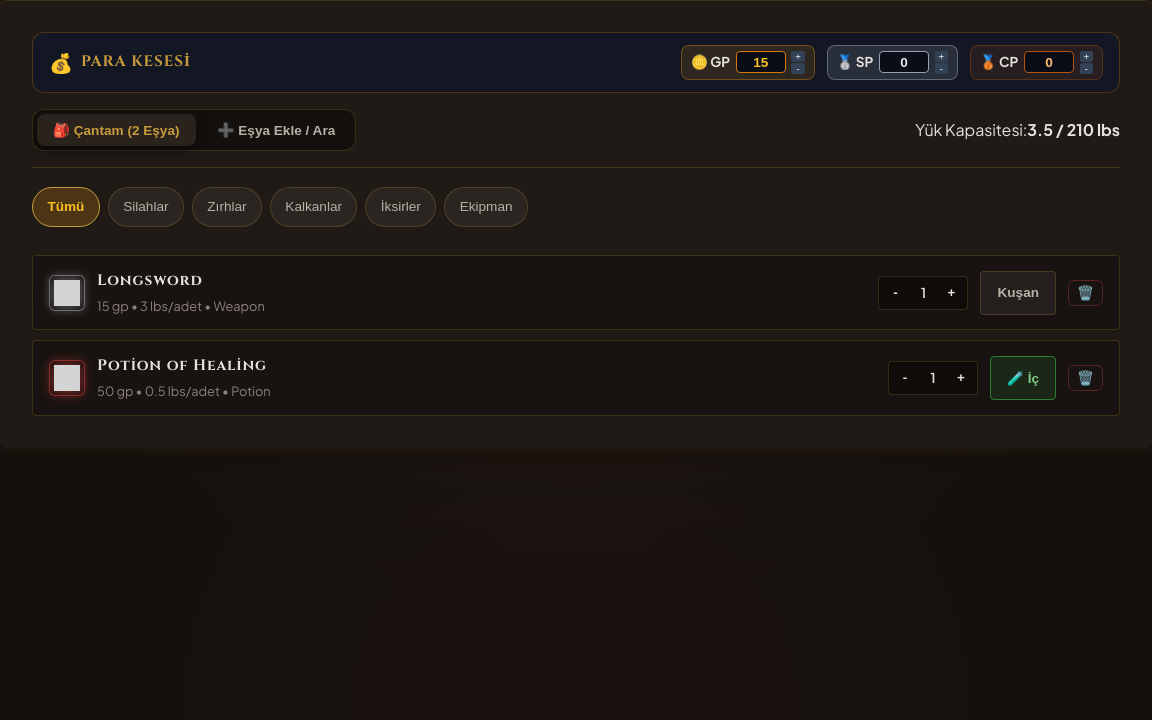
Test: InventoryManager Component › allows toggling equip state of weapon or armor
The width and height of the screenshot is (1152, 720).
Click the button with aria-label "Longsword kuşan/çıkar": click(1018, 293) [980,271,1056,315]
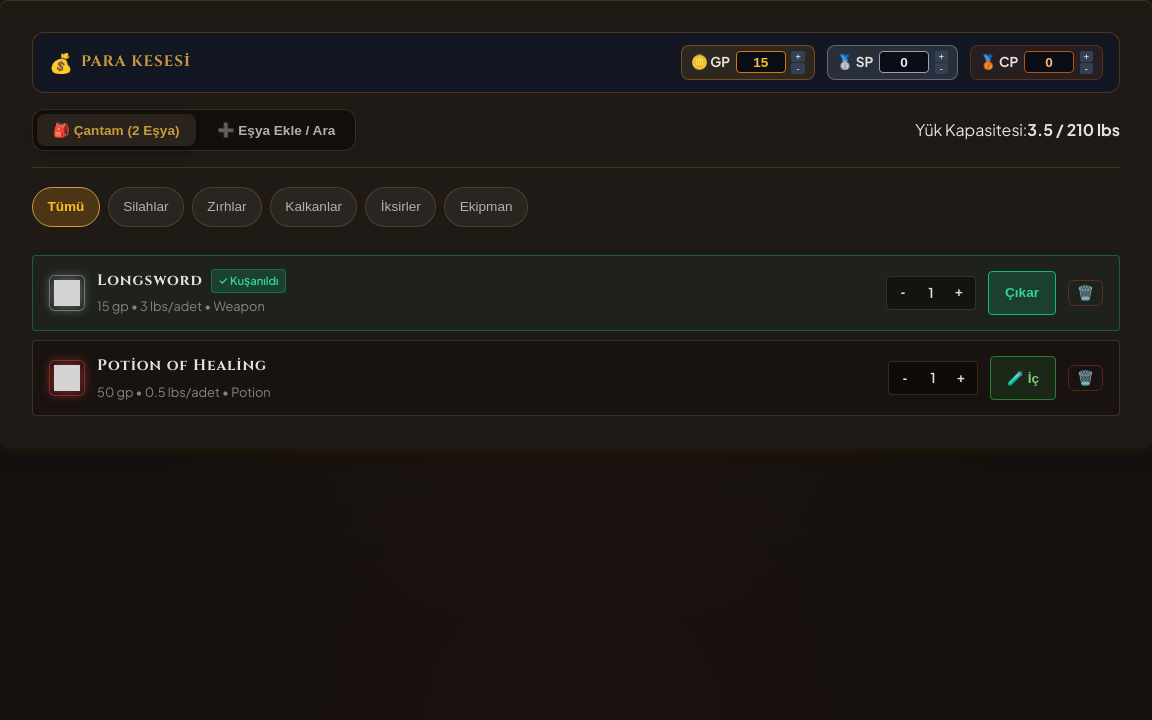
Expected: the button "Longsword kuşan/çıkar" no longer shows "Kuşan"
